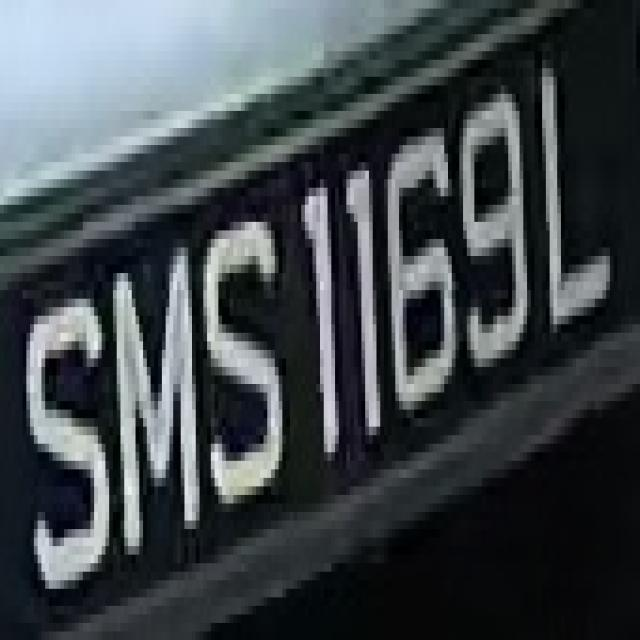1: (342, 128, 388, 495), (298, 162, 347, 487)
6: (373, 119, 459, 444)
9: (440, 77, 531, 392)
L: (531, 43, 621, 341)
M: (98, 214, 199, 564)
S: (15, 264, 113, 632), (196, 205, 286, 529)
